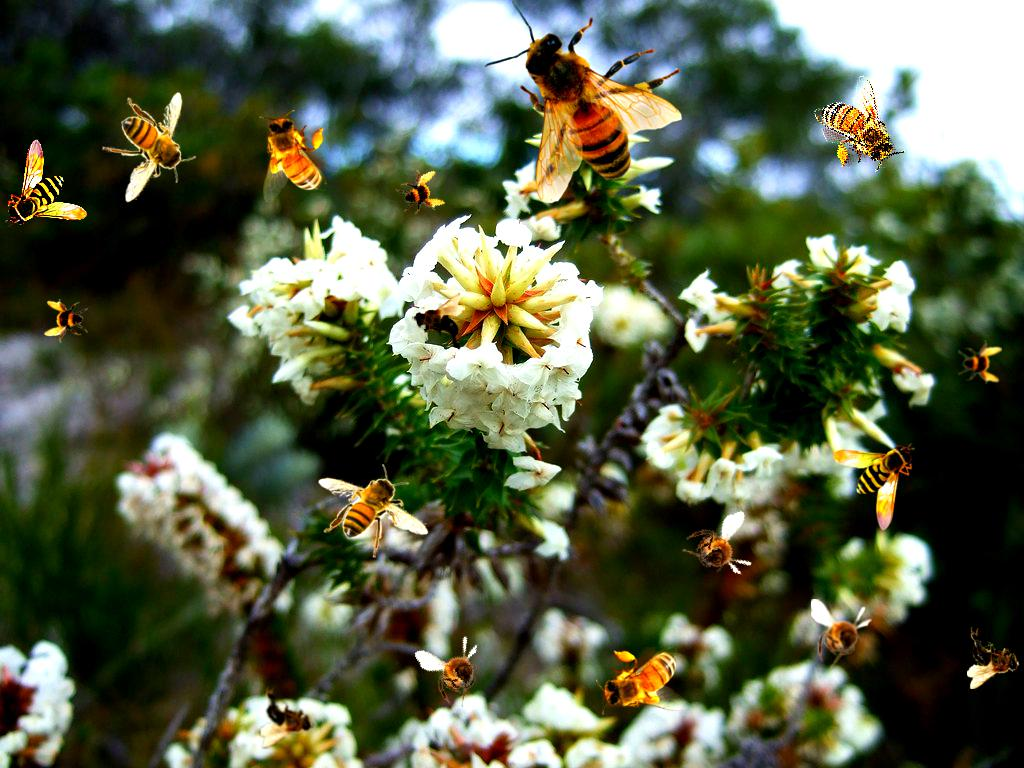Bee: (483, 0, 682, 204), (808, 72, 908, 185), (318, 464, 429, 558), (102, 92, 196, 203), (413, 626, 500, 716), (833, 443, 915, 531), (5, 139, 87, 227), (676, 510, 761, 590), (259, 110, 327, 203), (596, 647, 689, 715), (811, 599, 872, 669), (259, 685, 316, 751), (391, 163, 449, 221), (412, 293, 465, 355), (967, 627, 1020, 689), (958, 340, 1002, 384), (44, 299, 88, 343)
